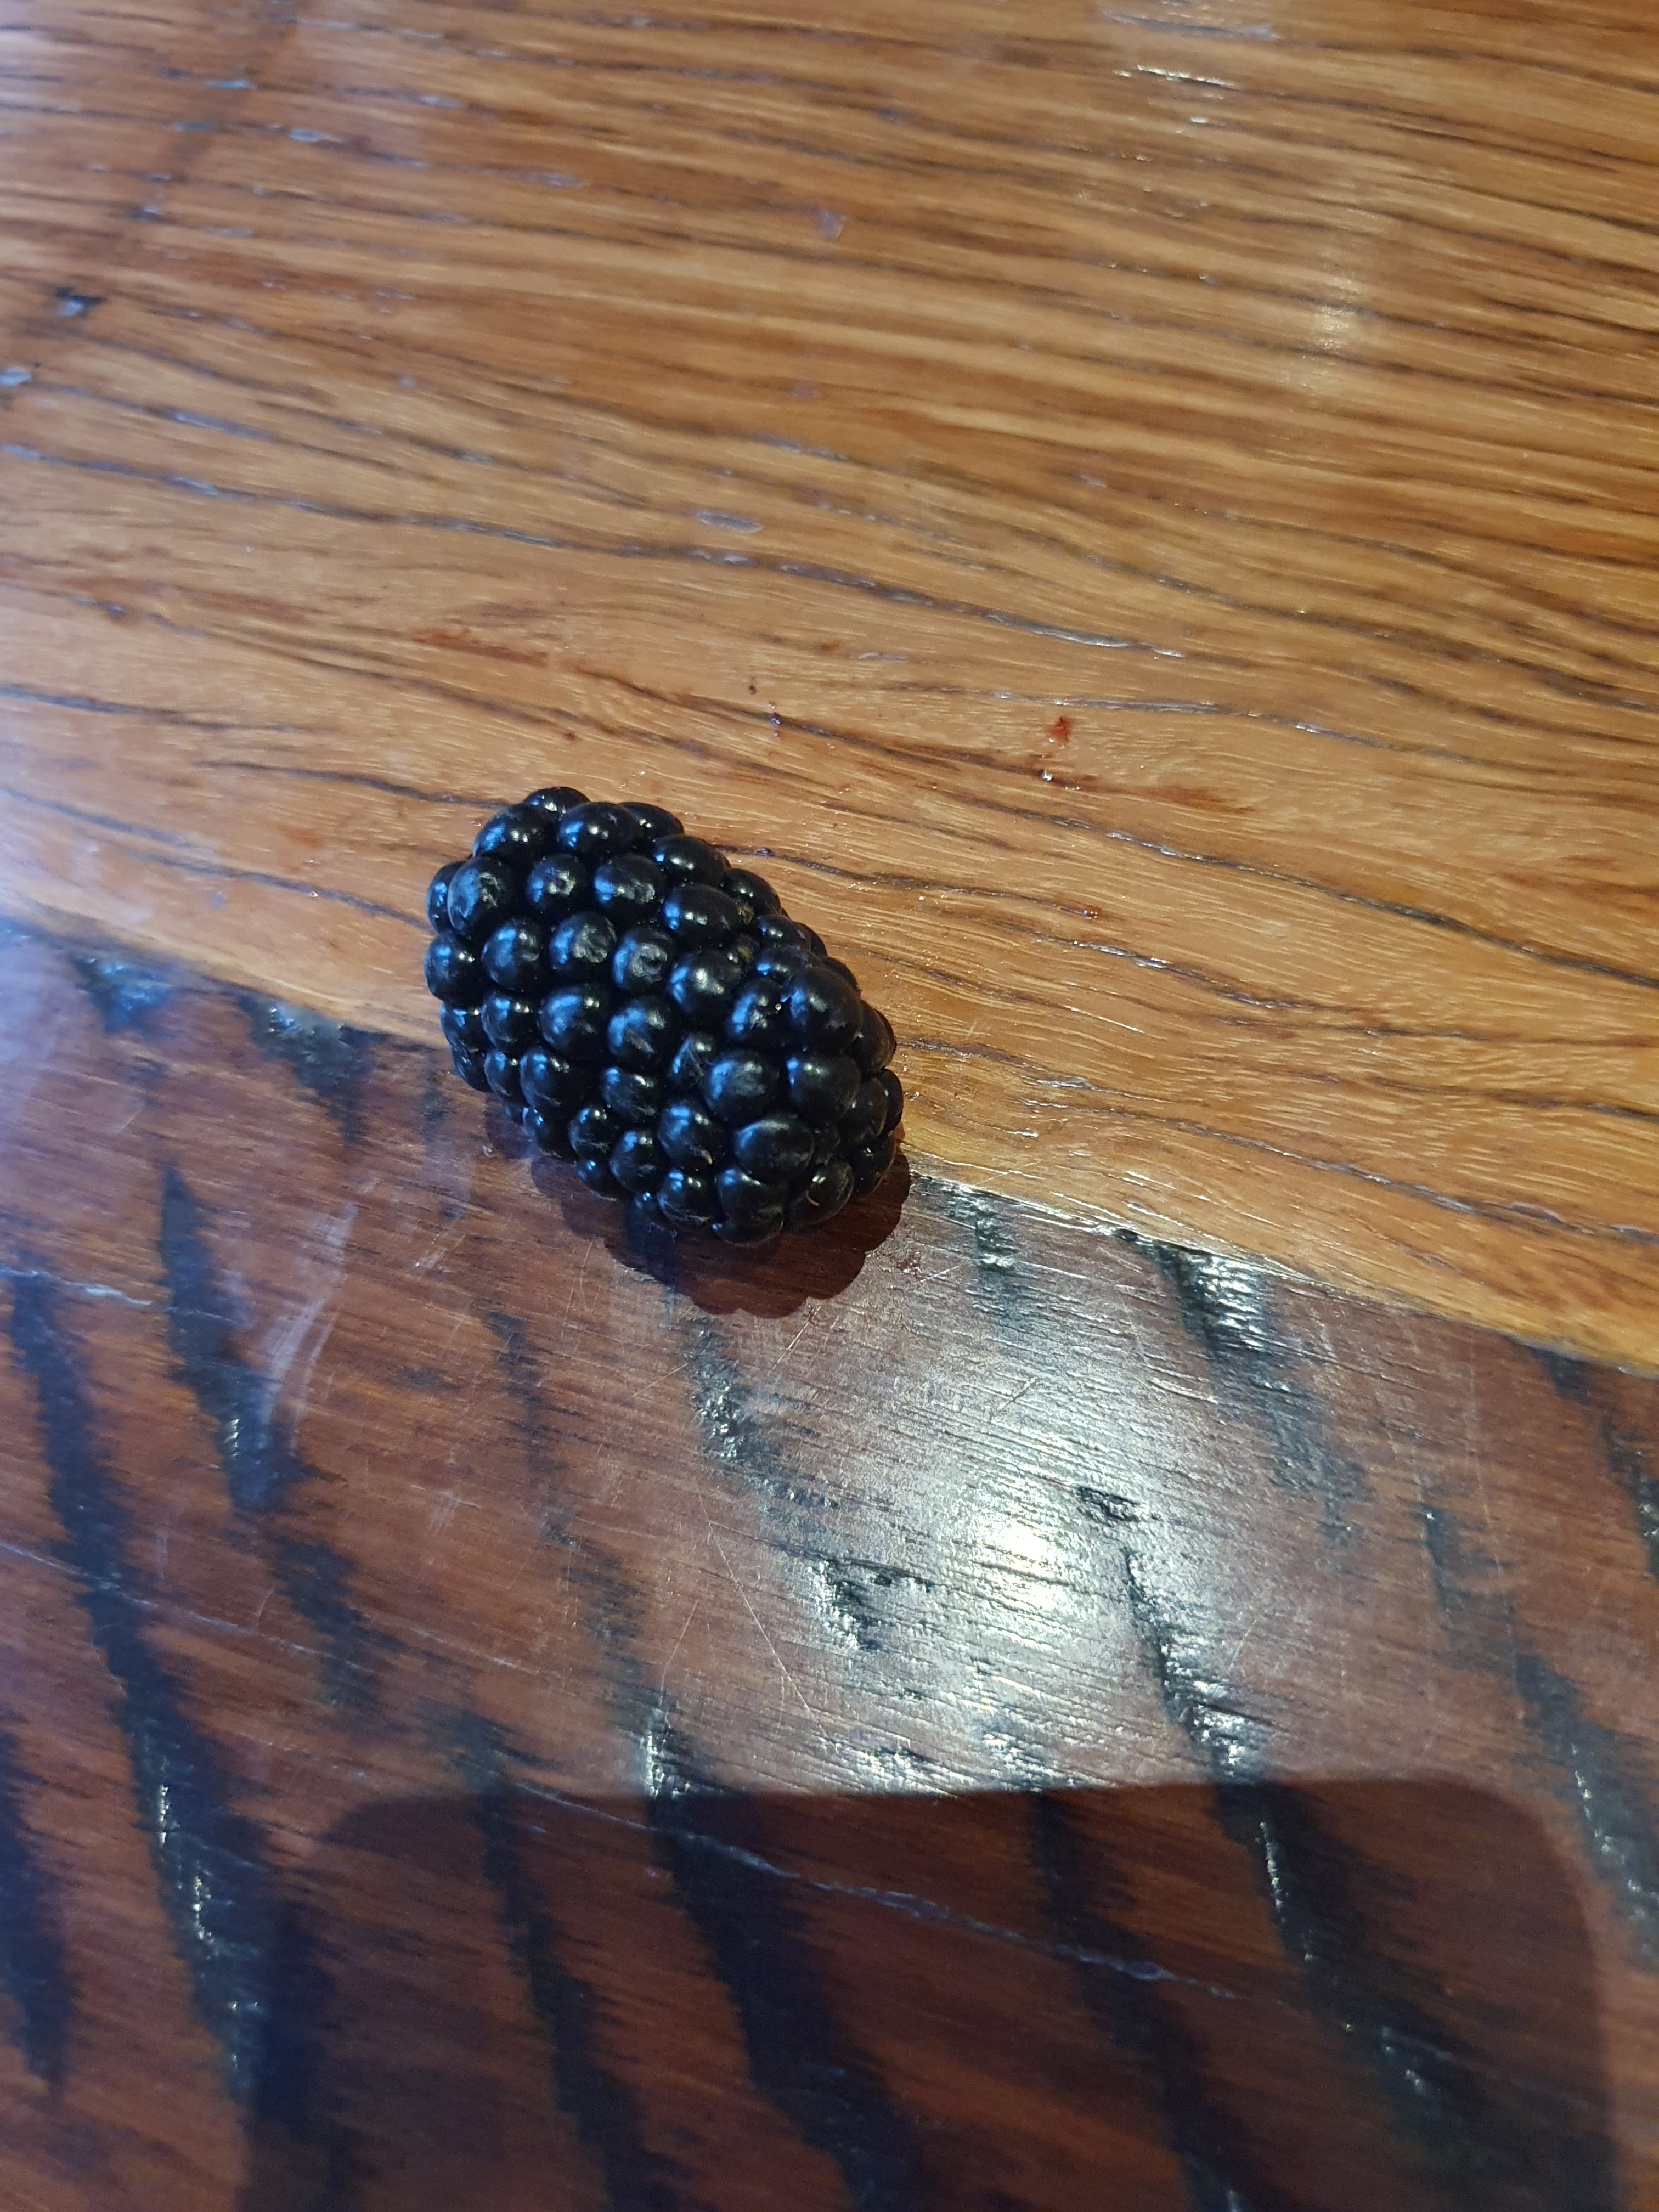blackberry: (373, 752, 924, 1280)
